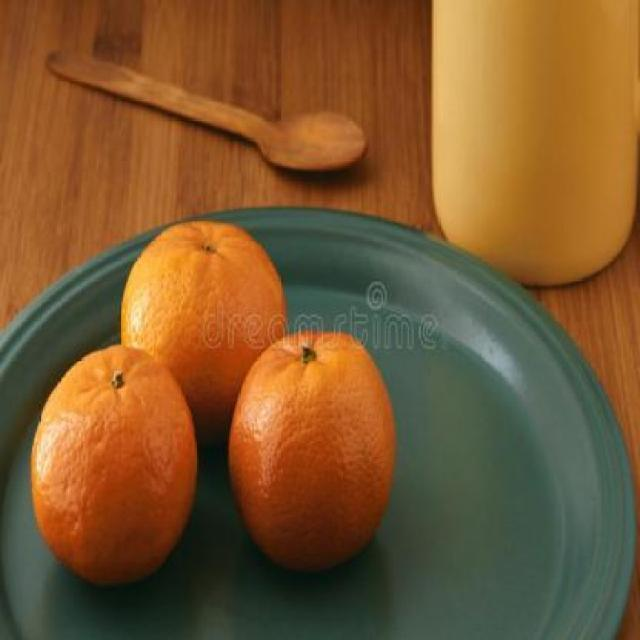Jeruk Sudah Matang: (227, 334, 396, 566), (29, 346, 198, 571), (120, 223, 289, 442)
